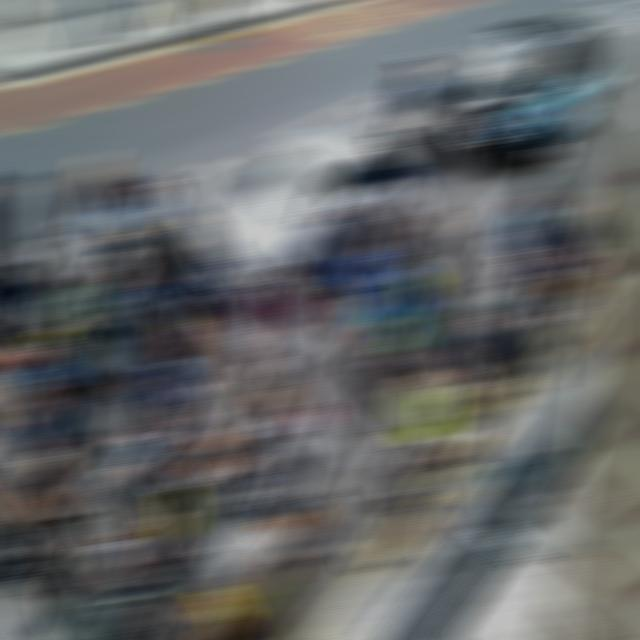With Helmet: (114, 426, 175, 484), (110, 349, 160, 403)
Without Helmet: (245, 240, 297, 294), (12, 377, 69, 418)
